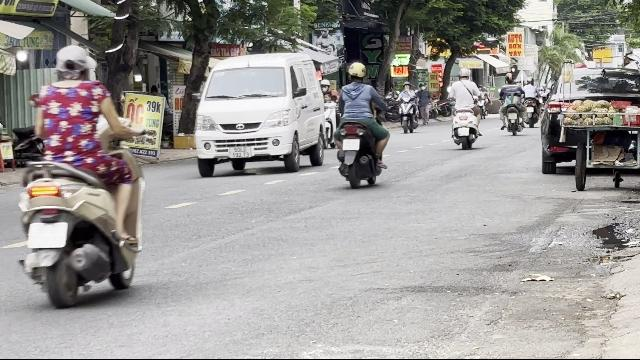helmet: (347, 62, 367, 82)
licenseplate: (28, 222, 66, 246), (342, 140, 360, 150)
motorcyclist: (9, 42, 150, 306), (332, 61, 390, 187)
nohelmet: (52, 44, 96, 82)
